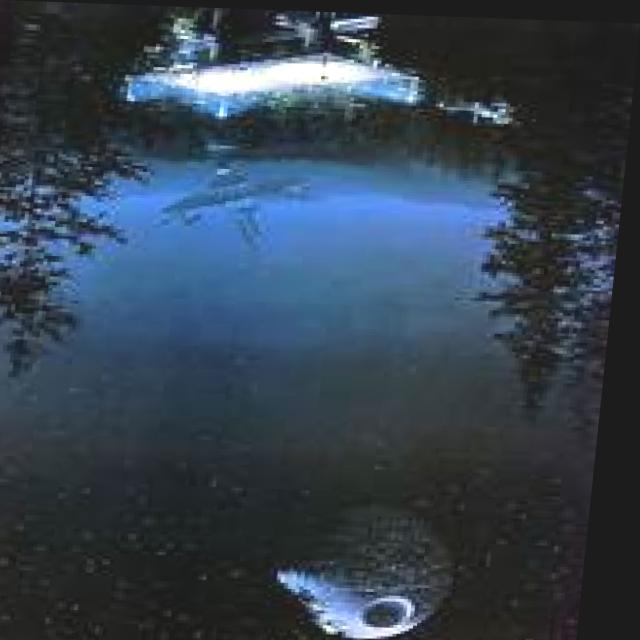deathStar: (269, 496, 469, 640)
